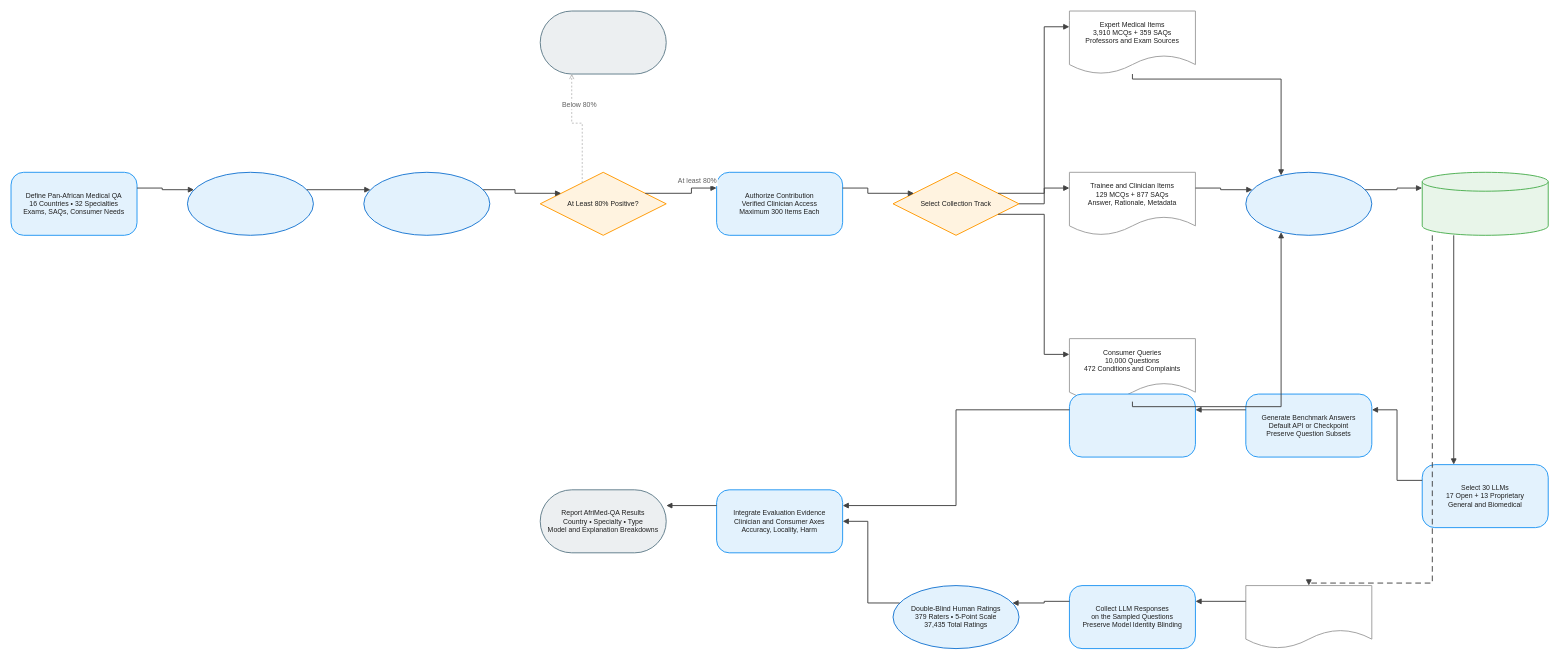
The diagram is 1560 pixels wide and 660 high, and some of its shapes have lost their labels. Here are the shapes that lost their labels. From the top down, the centre of each, then its label:
At (x=602, y=42): "Do Not Authorize Contribution Improve and Requalify".
At (x=250, y=203): "Recruit and Check Credentials 621 Contributors 60+ Medical Schools".
At (x=426, y=203): "Review Contributor Sample Check Clinical Correctness Score Initial Contributions".
At (x=1308, y=203): "Review Every Item Question, Answer, Rationale Clinical and Reference Checks".
At (x=1484, y=203): "Release 15,275 Items Expert 4,269 + Crowd 11,006 5,444 Human Explanations".
At (x=1132, y=425): "Compute Automated Metrics MCQ Exact Accuracy BERTScore • QuestEval • ROUGE".
At (x=1308, y=617): "Randomly Sample 3,000 Questions Select Questions First for Human Evaluation".
